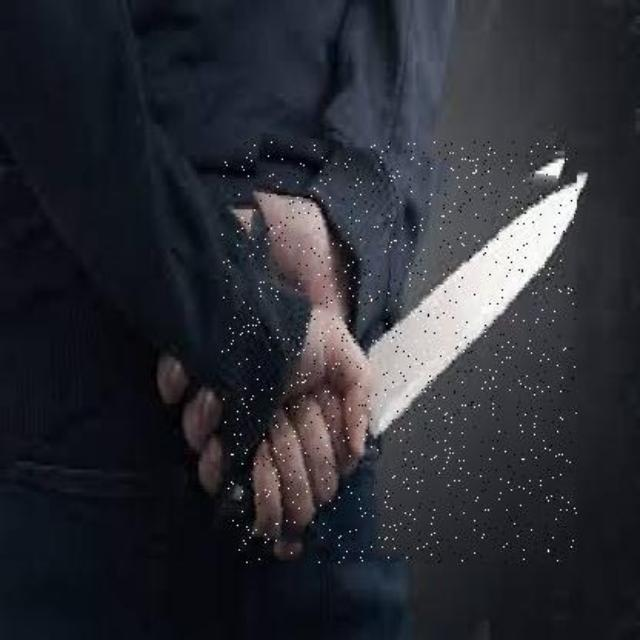Knife: (222, 142, 576, 562)
